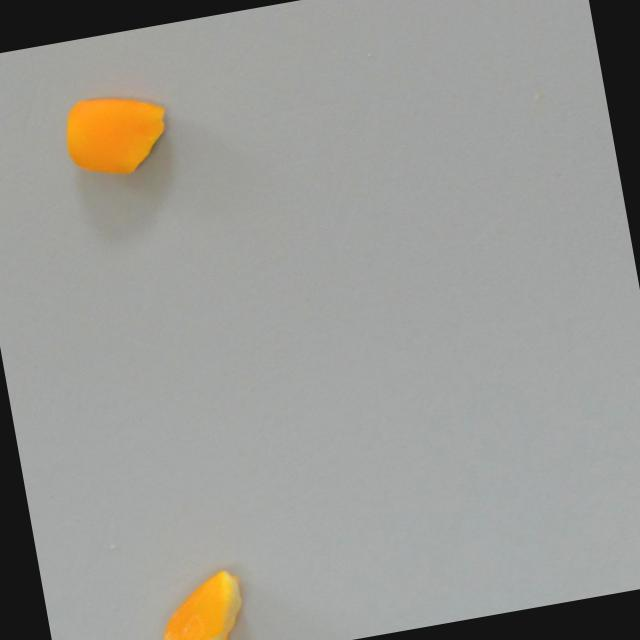dañado: (51, 67, 180, 191)
punto_negro: (132, 550, 264, 640)
